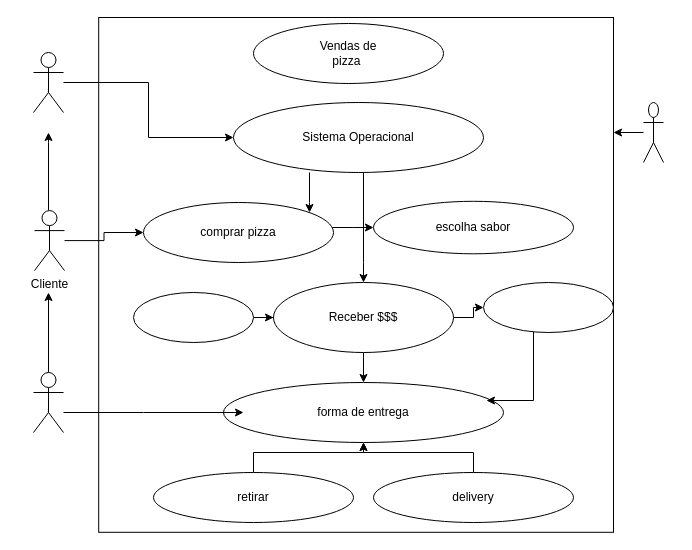
The diagram is 692 pixels wide and 550 high, and some of its shapes have lost their labels. The centre of each missing label's shape, as x and y in pixels:
"Entregador" goes at [48,402].
"forma de pagamento" goes at [193,317].
"Funcionário" goes at [48,82].
"Gerente" goes at [653,132].
"pagamento confirmado" goes at [548,307].
